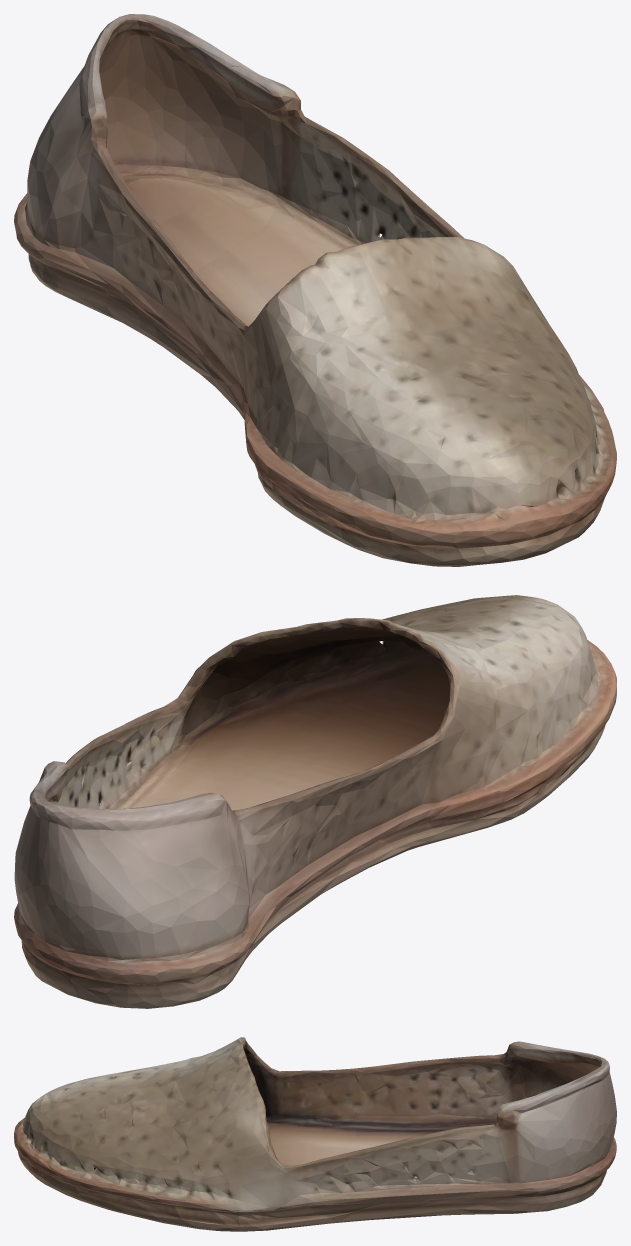
3 views of the same model, one above another, from view 1: azimuth 30°, elevation 25°; view 2: azimuth 150°, elevation 25°; view 3: azimuth 270°, elevation 25° (orthographic). The views are drawn at different scales.
Visible parts, largest first — view 1: geometry_0; view 2: geometry_0; view 3: geometry_0.
Boxes of the visible parts, left/top/right/bottom form: geometry_0: left=14, top=14, right=616, bottom=566; geometry_0: left=14, top=595, right=616, bottom=1008; geometry_0: left=14, top=1037, right=616, bottom=1231.
Size of the model in its own units: 0.3984 by 0.2415 by 0.9977.
1 material, 1 textured.
